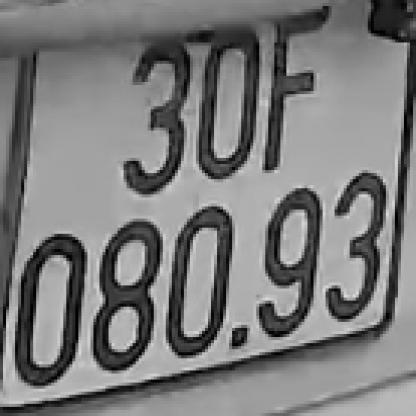0: (12, 228, 90, 388), (169, 207, 229, 356), (205, 30, 256, 180)
3: (117, 43, 190, 200), (322, 173, 386, 319)
8: (90, 216, 166, 370)
9: (256, 188, 320, 340)
F: (268, 15, 332, 167)
